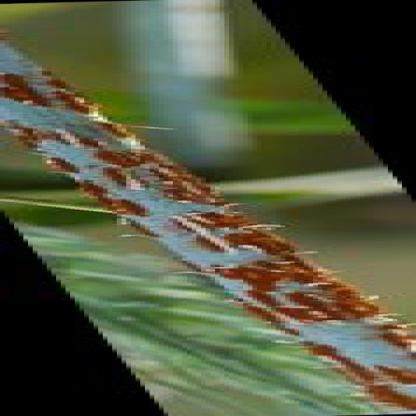wheat Stem Rust: (247, 291, 365, 317), (126, 180, 218, 210), (205, 261, 307, 287), (0, 72, 75, 107), (13, 125, 118, 144), (182, 238, 302, 254), (346, 348, 402, 378), (88, 150, 156, 174), (163, 216, 245, 233)
